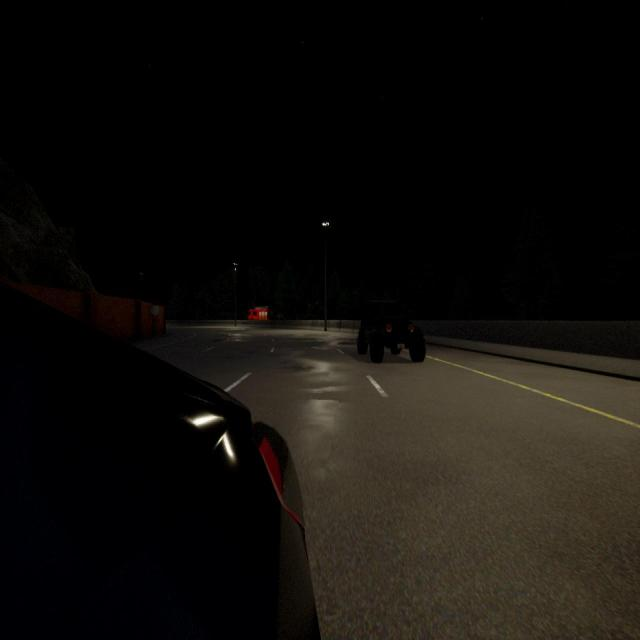Traffic_Signs: (151, 306, 160, 316)
Vehicle: (0, 287, 319, 640), (357, 300, 427, 363), (247, 306, 270, 320)
